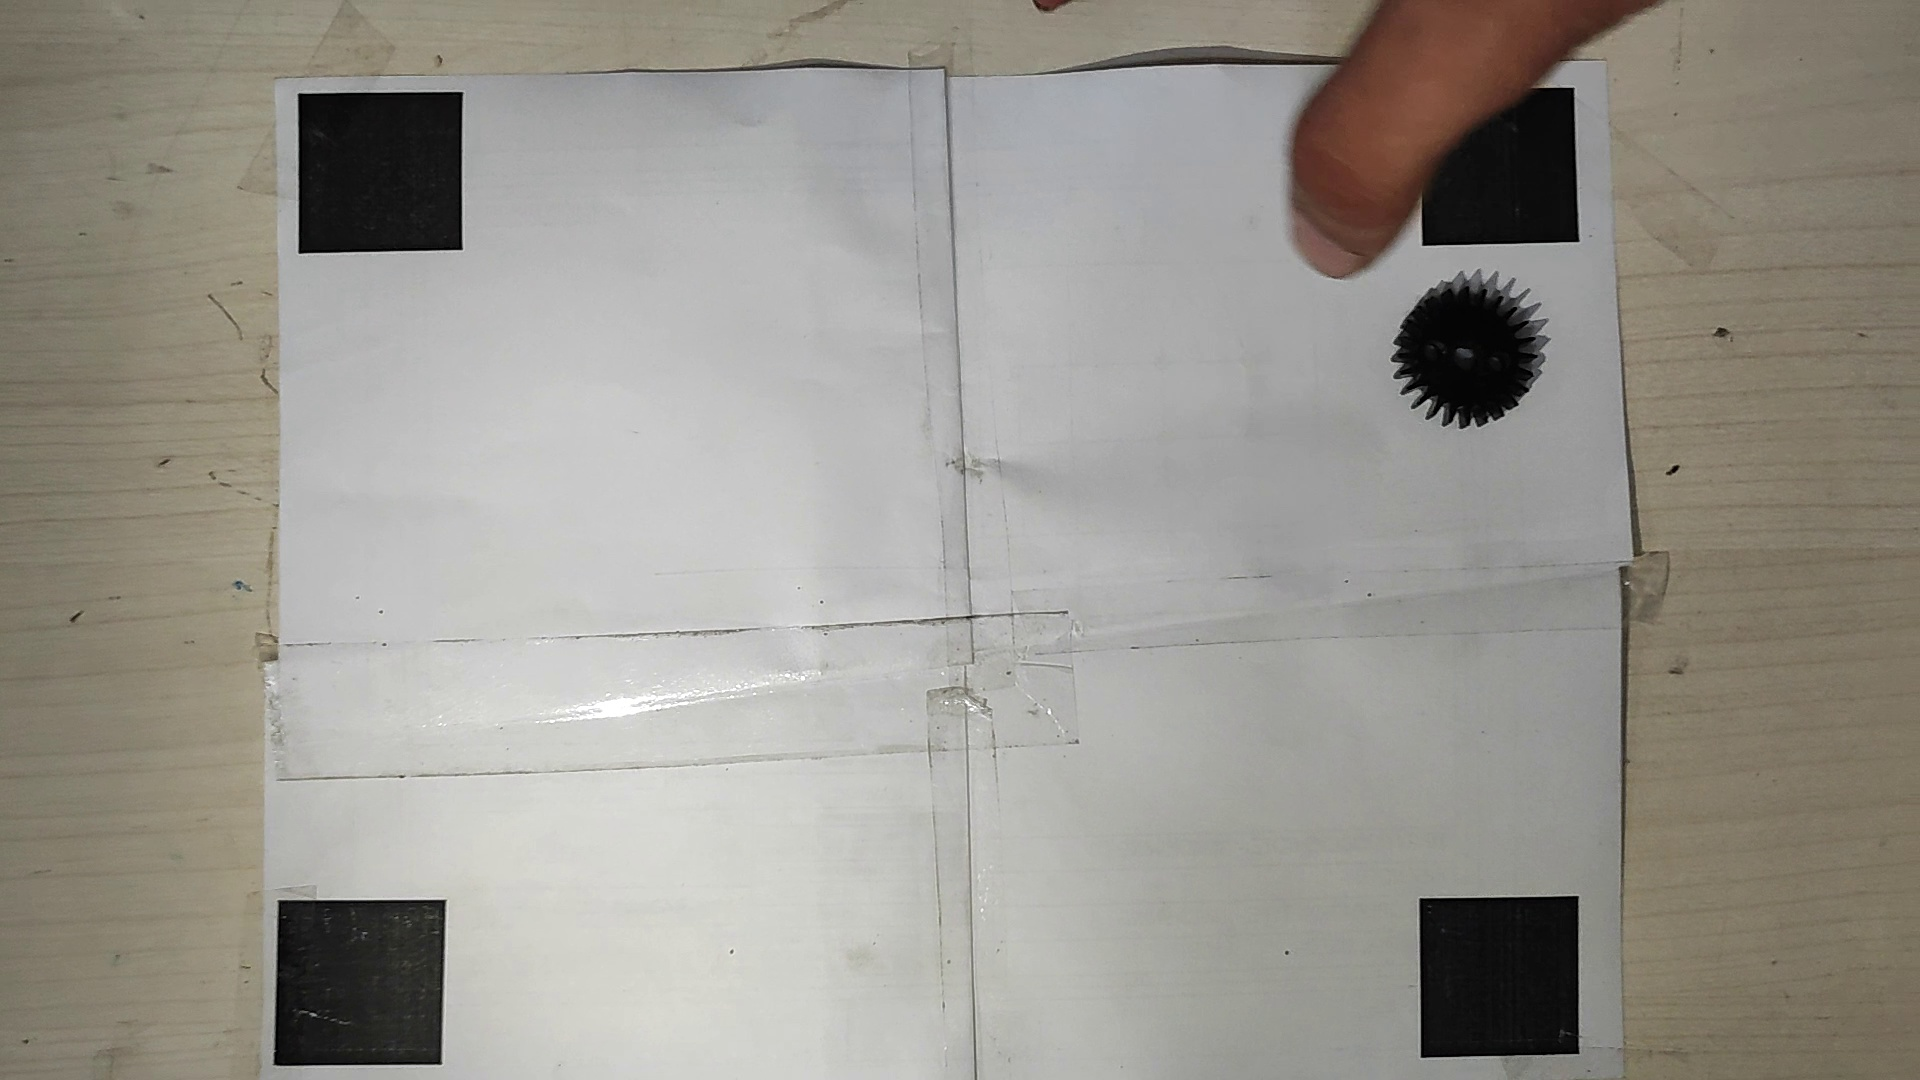Gear: (1387, 276, 1545, 435)
